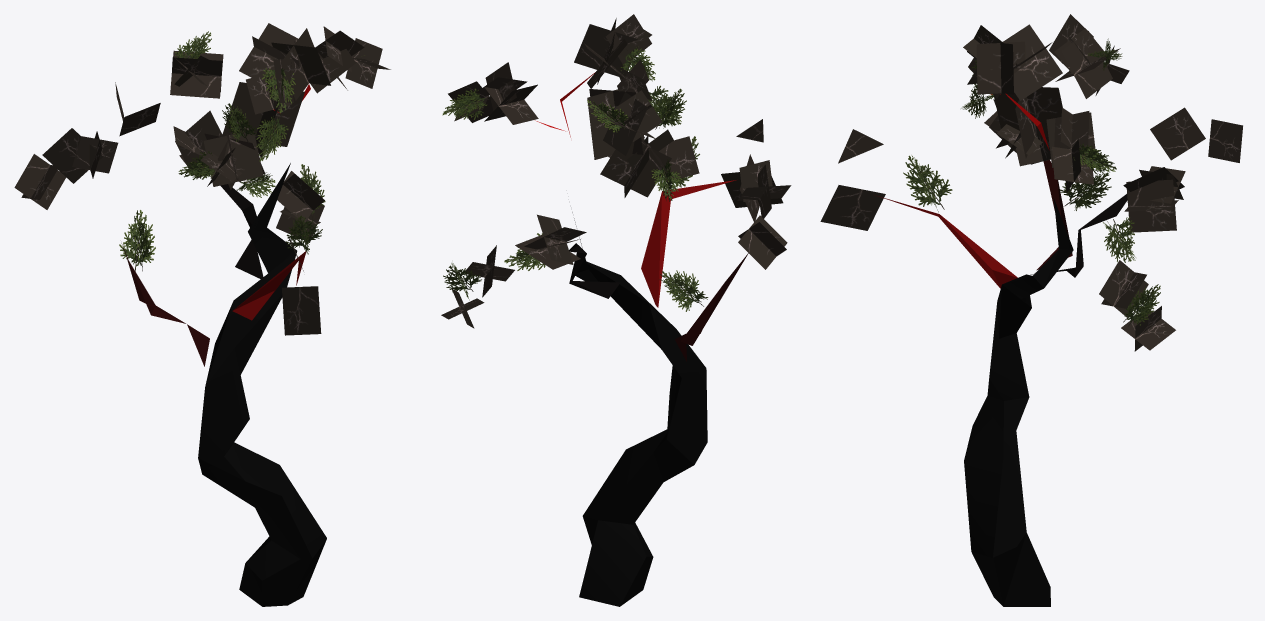
Rendered from cpine2 lod4.FBX.
3 views of the same model, side by side, from view 1: azimuth 30°, elevation 25°; view 2: azimuth 150°, elevation 25°; view 3: azimuth 270°, elevation 25° (orthographic).
Visible parts, largest first — view 1: cpine_LOD3; view 2: cpine_LOD3; view 3: cpine_LOD3.
Boxes of the visible parts, bbox=[...] form: cpine_LOD3: bbox=[14, 23, 390, 606]; cpine_LOD3: bbox=[441, 14, 791, 606]; cpine_LOD3: bbox=[820, 14, 1242, 606].
Bounding box in the file's own units: 106482 × 157252 × 107161.
